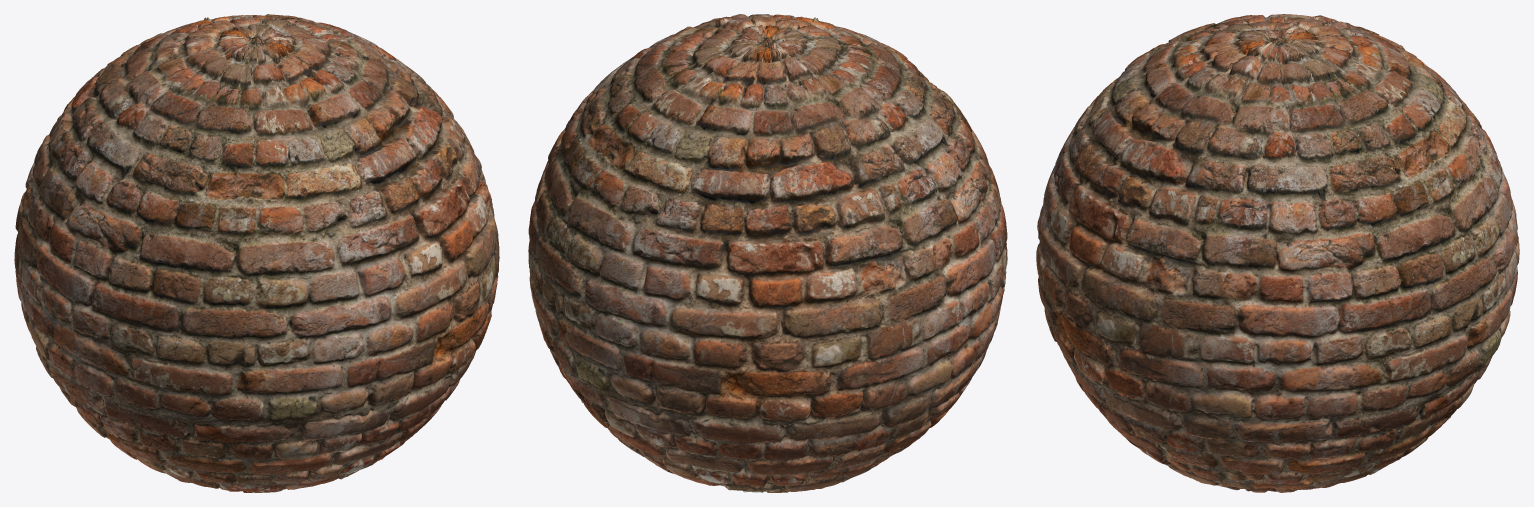
Rendered from castle_brick_02_red_2k.gltf.
3 views of the same model, side by side, from view 1: azimuth 30°, elevation 25°; view 2: azimuth 150°, elevation 25°; view 3: azimuth 270°, elevation 25° (orthographic).
Visible parts, largest first — view 1: sphere_gltf; view 2: sphere_gltf; view 3: sphere_gltf.
Part boxes in pixels (x1,y1,x2,y2): sphere_gltf: (14,14,499,492); sphere_gltf: (528,14,1007,492); sphere_gltf: (1036,14,1519,492).
Bounding box in the file's own units: 1.53 × 1.53 × 1.54.
1 material, 1 textured.
